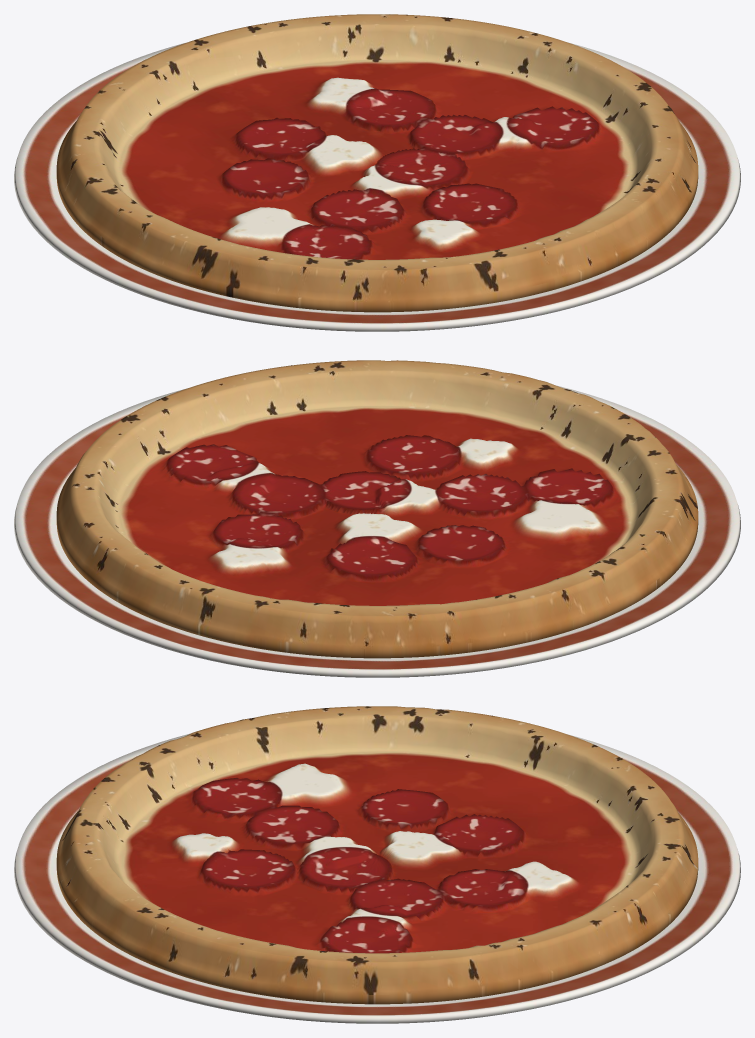
File: pizza-diavola.glb
3 renders of one model, top to bottom at view 1: azimuth 30°, elevation 25°; view 2: azimuth 150°, elevation 25°; view 3: azimuth 270°, elevation 25°, orthographic.
Visible parts, largest first — view 1: Pizza, Prato; view 2: Pizza, Prato; view 3: Pizza, Prato.
Part boxes in pixels (bbox=[...]): Pizza: bbox=[56, 14, 698, 312]; Prato: bbox=[14, 42, 740, 331]; Pizza: bbox=[56, 360, 698, 658]; Prato: bbox=[14, 385, 740, 677]; Pizza: bbox=[56, 706, 698, 1004]; Prato: bbox=[14, 733, 740, 1023].
Bounding box in the file's own units: 0.34 × 0.0323 × 0.34.
2 materials, 2 textured.
